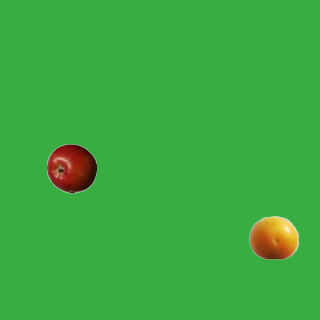Apple Braeburn: (46, 143, 96, 193)
Cherry Wax Yellow: (248, 212, 298, 262)
